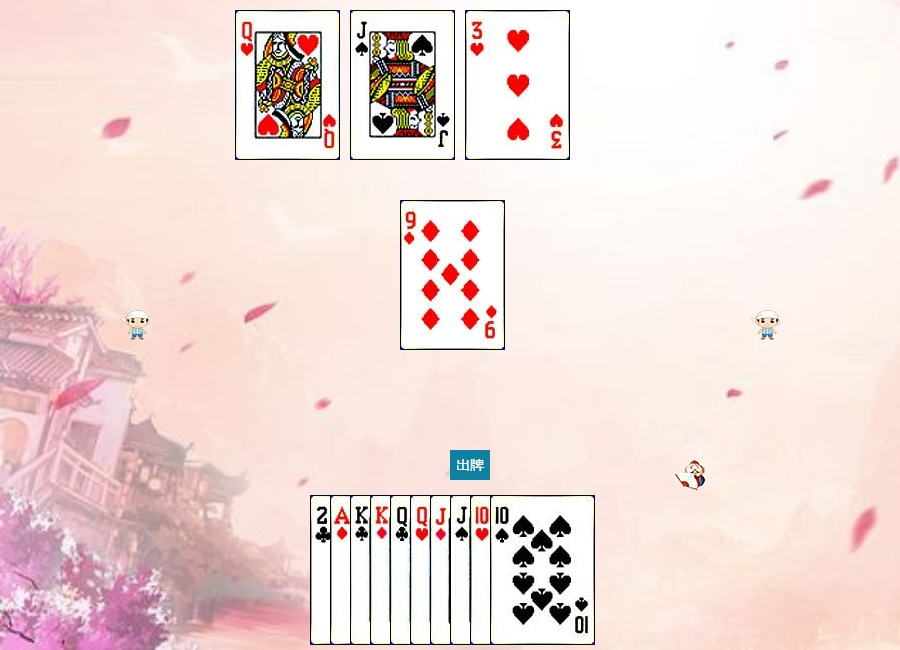10~3: (470, 495, 575, 645)
10~4: (490, 495, 595, 645)
11~1: (430, 495, 535, 645)
11~4: (350, 10, 455, 160), (450, 495, 555, 645)
12~2: (390, 495, 495, 645)
12~3: (235, 10, 340, 160), (410, 495, 515, 645)
13~1: (370, 495, 475, 645)
13~2: (350, 495, 455, 645)
14~1: (330, 495, 435, 645)
15~2: (310, 495, 415, 645)
3~3: (465, 10, 570, 160)
9~1: (400, 200, 505, 350)
